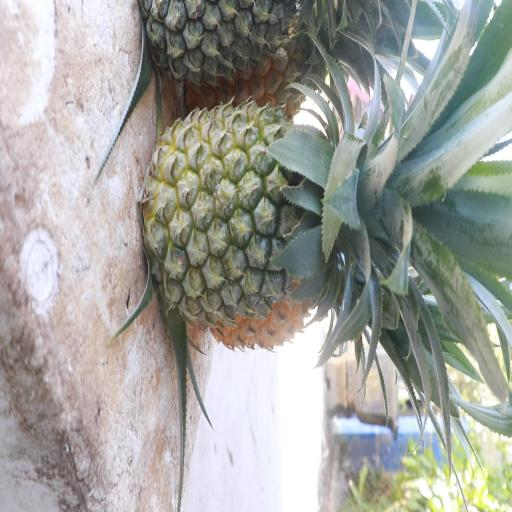------------------------------: (146, 102, 368, 326)
